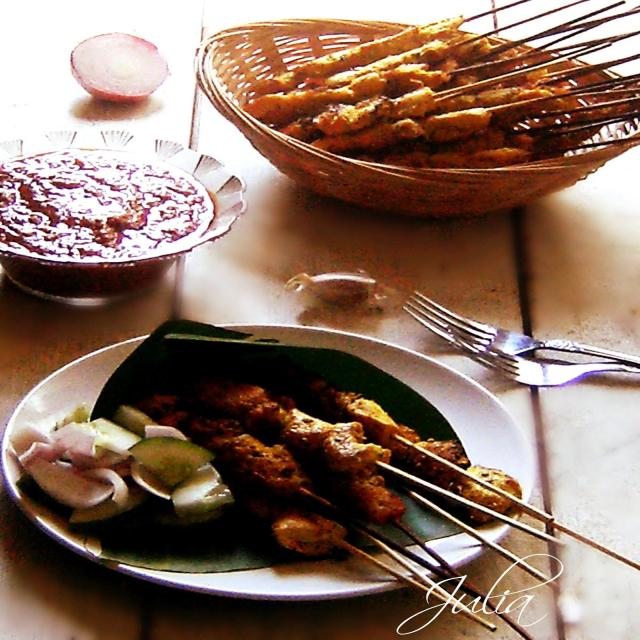Sate: (164, 375, 635, 634), (243, 3, 640, 167)
